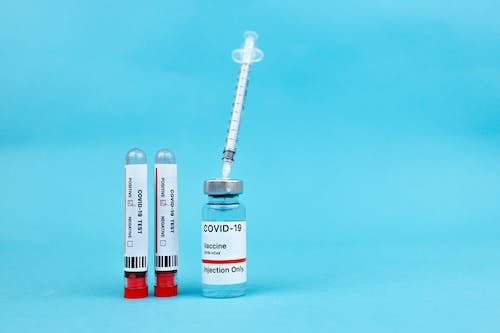blood: (122, 271, 149, 278), (153, 269, 179, 275)
